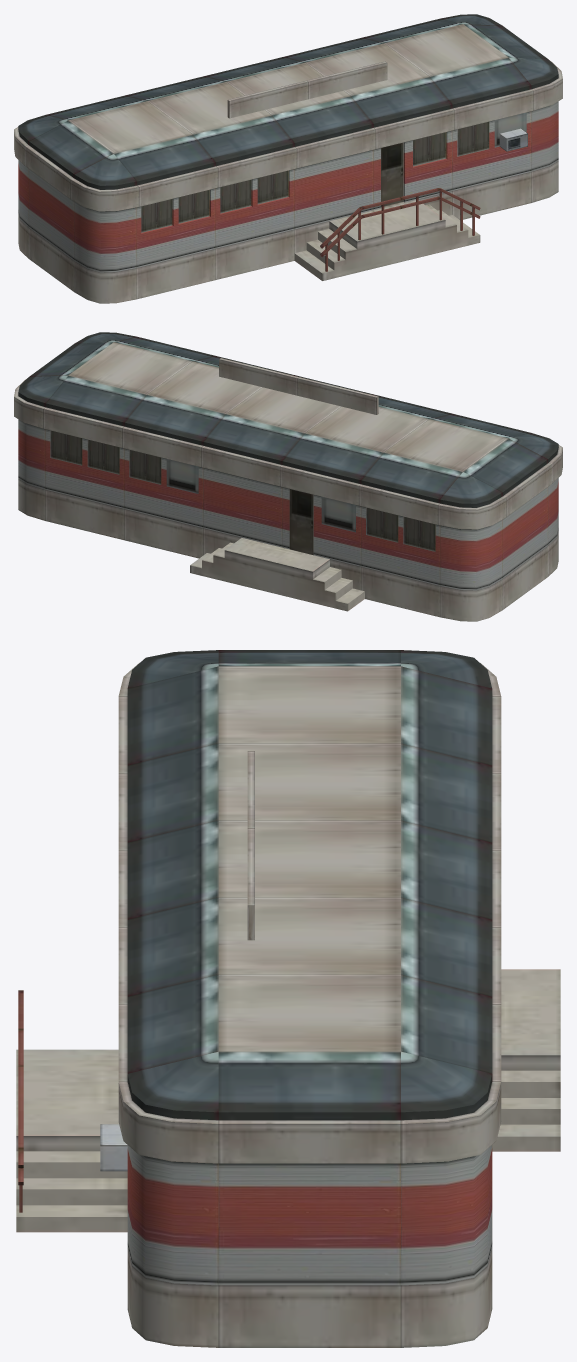
Rendered from rural-diner.lod1.glb.
3 renders of one model, top to bottom at view 1: azimuth 30°, elevation 25°; view 2: azimuth 150°, elevation 25°; view 3: azimuth 270°, elevation 25°, orthographic. The views are drawn at different scales.
Visible parts, largest first — view 1: Rural_Diner_1_Rural_Facade_FLR_2_0, Rural_Diner_1_Rural_Trailer_Stuff_1_0; view 2: Rural_Diner_1_Rural_Facade_FLR_2_0, Rural_Diner_1_Rural_Trailer_Stuff_1_0; view 3: Rural_Diner_1_Rural_Facade_FLR_2_0, Rural_Diner_1_Rural_Trailer_Stuff_1_0.
Part boxes in pixels (x1,y1,x2,y2): Rural_Diner_1_Rural_Facade_FLR_2_0: (14, 14, 562, 303); Rural_Diner_1_Rural_Trailer_Stuff_1_0: (18, 101, 558, 272); Rural_Diner_1_Rural_Facade_FLR_2_0: (14, 332, 562, 621); Rural_Diner_1_Rural_Trailer_Stuff_1_0: (18, 419, 558, 590); Rural_Diner_1_Rural_Facade_FLR_2_0: (16, 650, 560, 1347); Rural_Diner_1_Rural_Trailer_Stuff_1_0: (127, 1145, 492, 1285).
Bounding box in the file's own units: 18.3 × 5.31 × 8.96.
2 materials, 2 textured.
